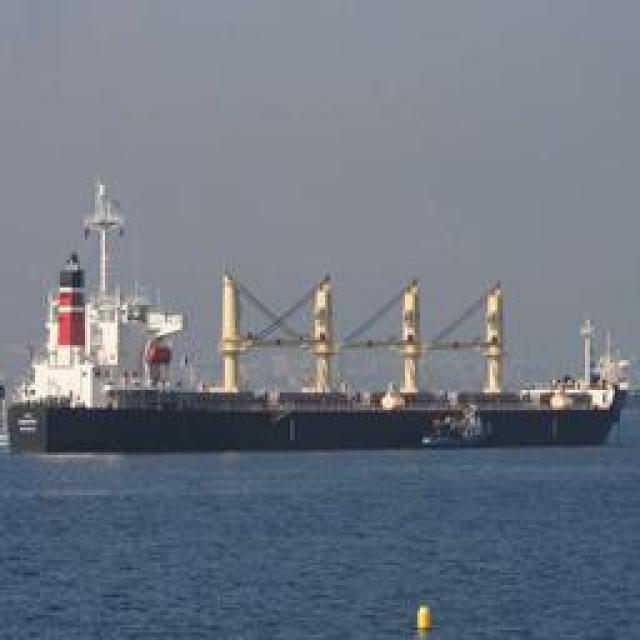ship2: (8, 182, 626, 457)
